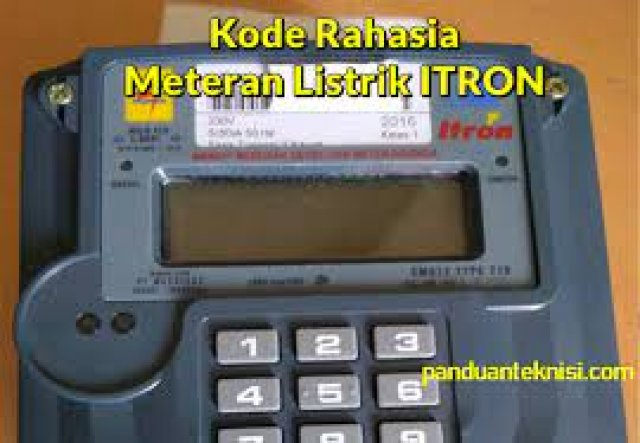box: (161, 175, 483, 264)
